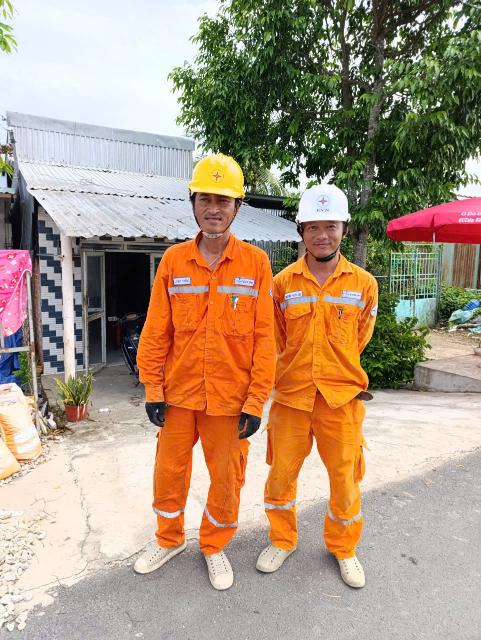gloves: (230, 400, 270, 451), (136, 391, 180, 430)
helmet: (290, 169, 362, 239), (179, 141, 258, 204)
shoes: (243, 516, 312, 579), (125, 521, 195, 571), (199, 529, 241, 602), (334, 544, 372, 593)
